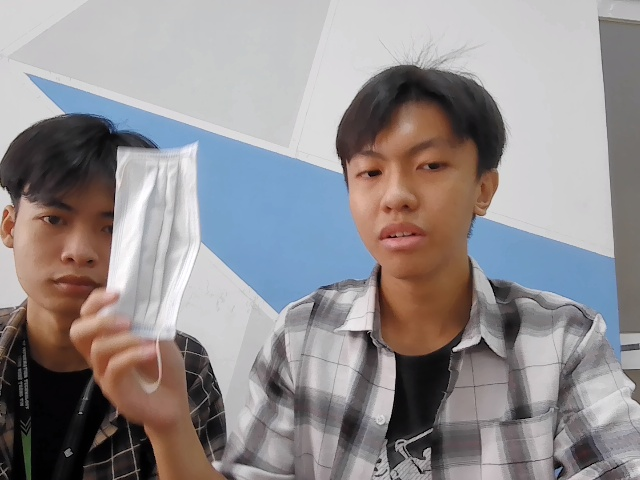human: (334, 58, 500, 281), (5, 115, 168, 321)
mask: (110, 146, 196, 343)
